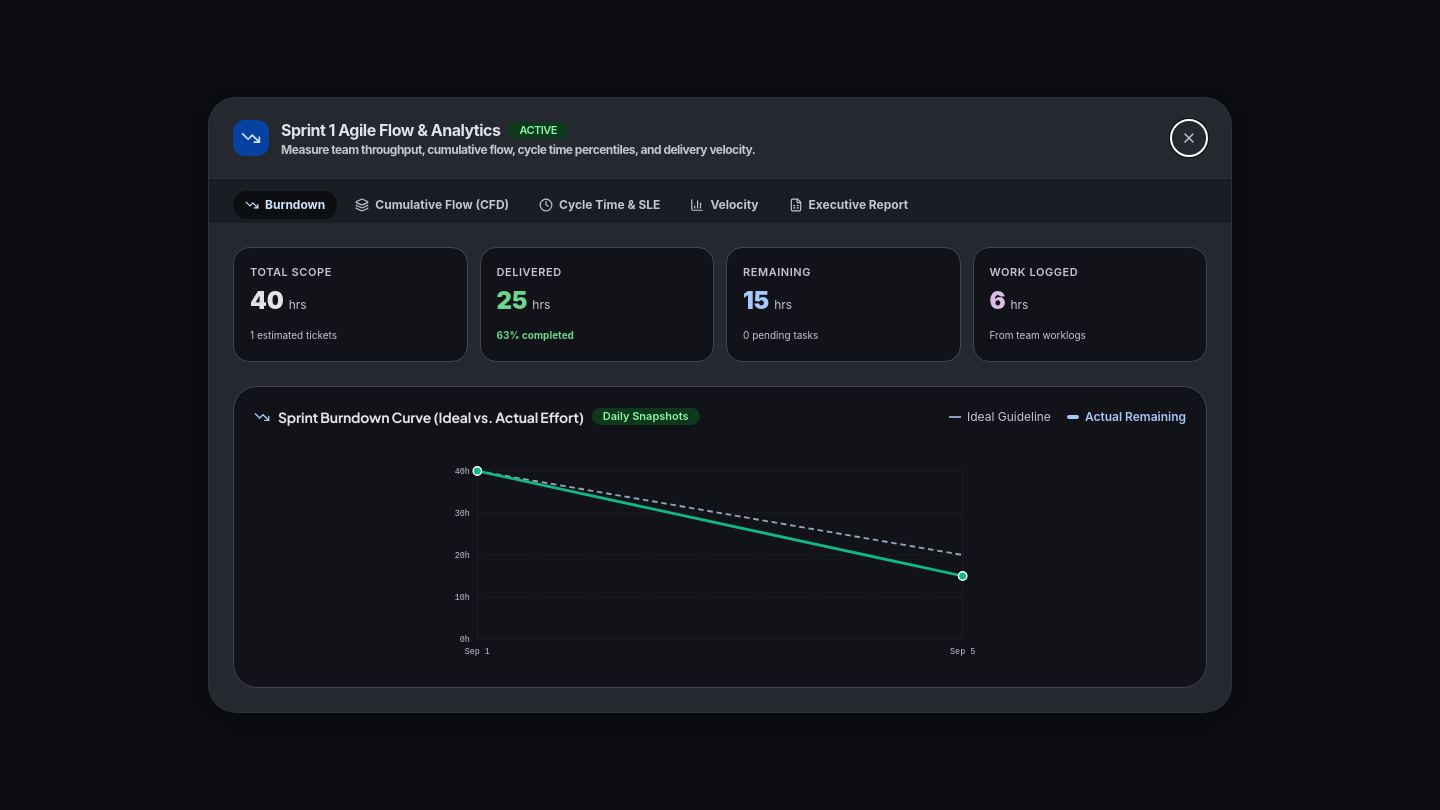
Scenario: SprintAnalyticsModal › switches to Cycle Time & SLE tab and renders percentiles
This screenshot has width=1440, height=810.
Press the mouse on the tab "Cycle Time & SLE" at (600,205), box [527,191,672,219]
Press Enter in the tab "Cycle Time & SLE", box [527,191,672,219]
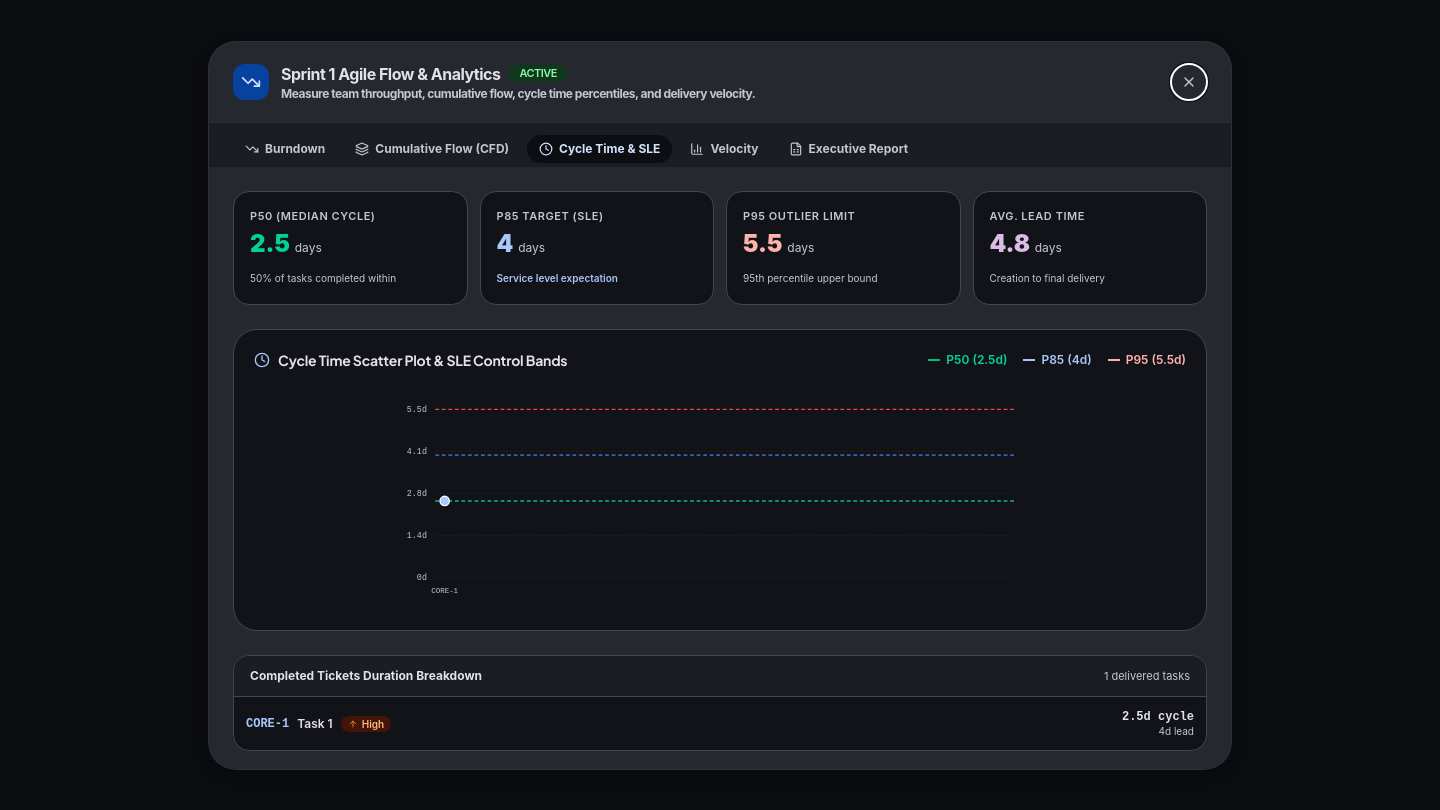
Now the text "P50 (Median Cycle)" is shown, box [250,208,376,222]
Now the text "P85 Target (SLE)" is shown, box [496,208,604,222]
